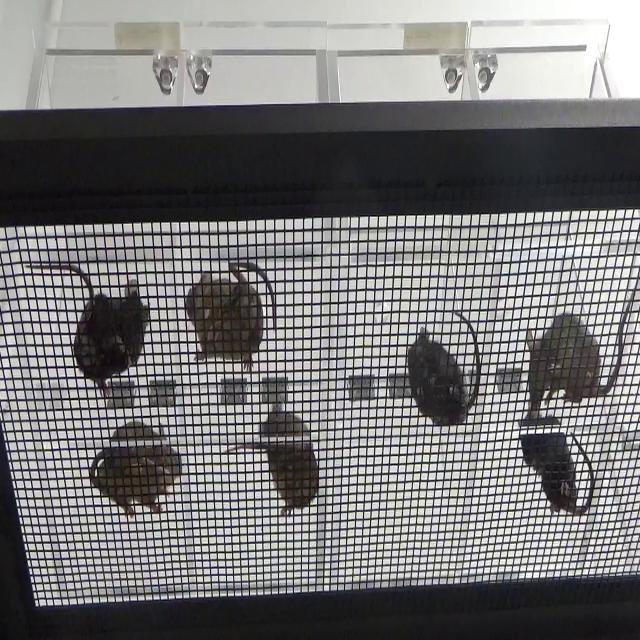scratch: (19, 254, 159, 405)
